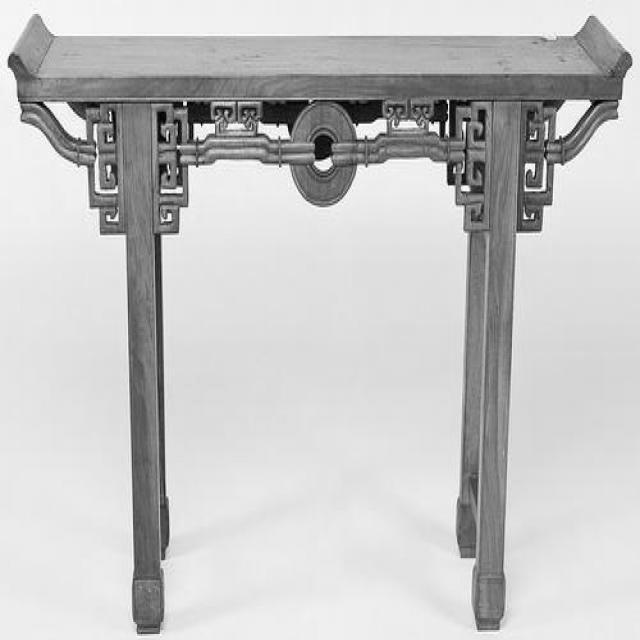table: (7, 8, 630, 636)
